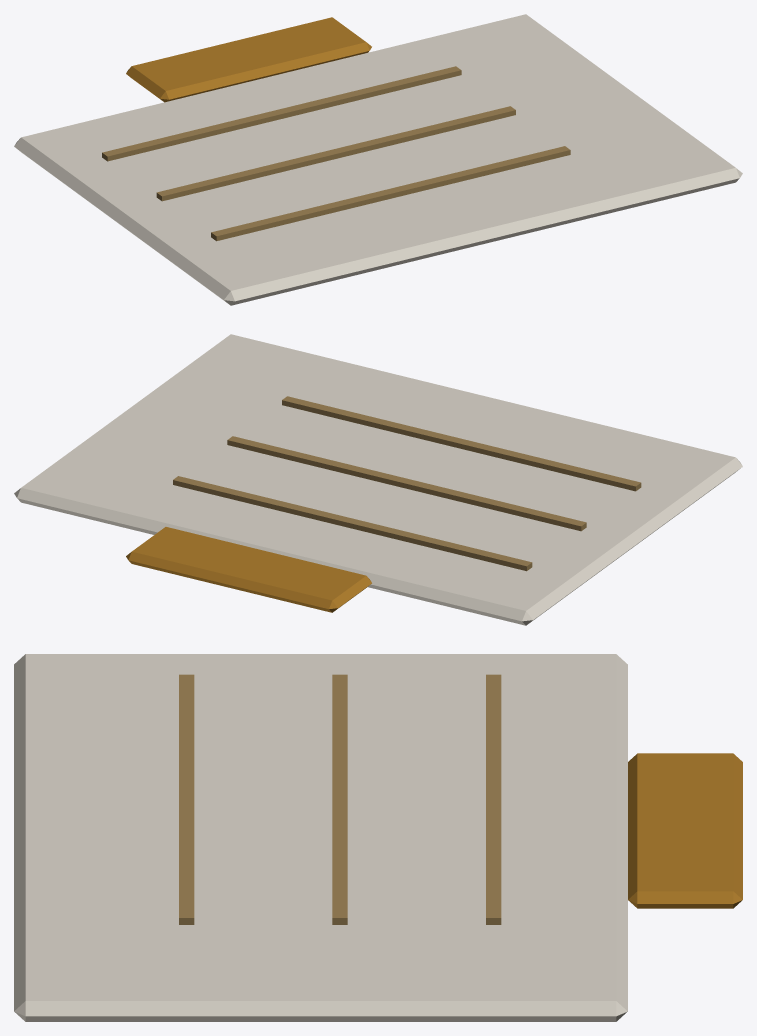
The model's file is request.glb.
3 views of the same model, one above another, from view 1: azimuth 30°, elevation 25°; view 2: azimuth 150°, elevation 25°; view 3: azimuth 270°, elevation 25° (orthographic). The views are drawn at different scales.
Visible parts, largest first — view 1: Paper_mesh; view 2: Paper_mesh; view 3: Paper_mesh.
Part boxes in pixels (bbox=[...]): Paper_mesh: bbox=[14, 14, 742, 305]; Paper_mesh: bbox=[14, 334, 742, 625]; Paper_mesh: bbox=[14, 654, 742, 1021].
Size of the model in its own units: 0.22 by 0.008 by 0.19.
